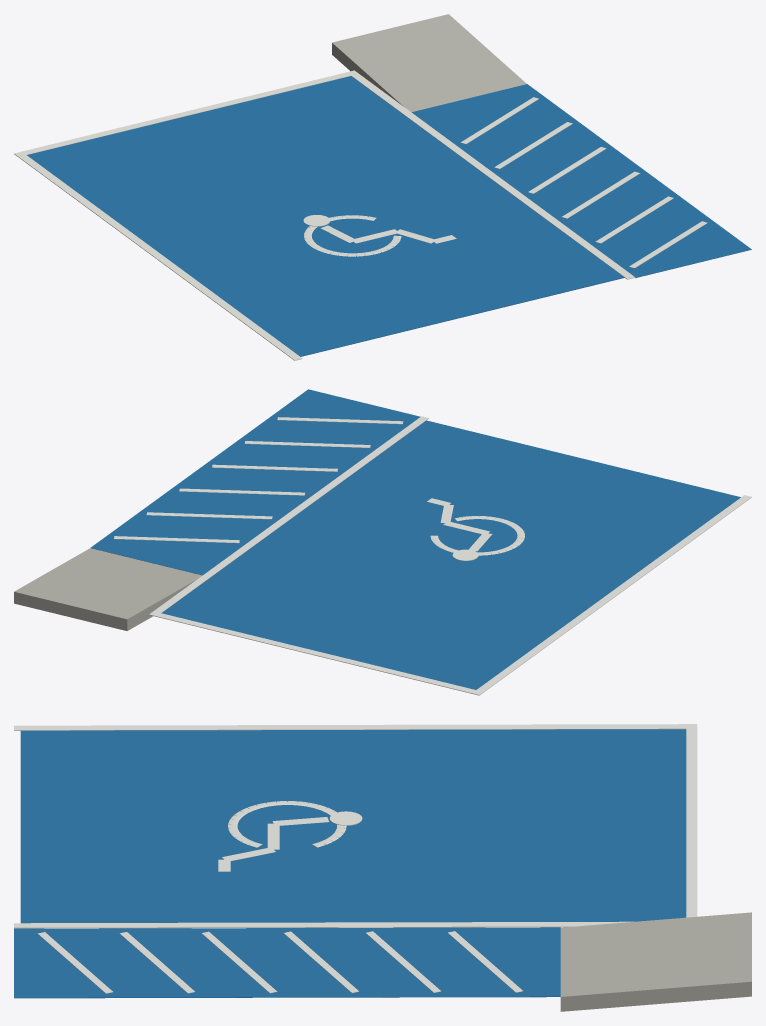
File: SIMUS_ParkingSpace_Accessible.fbx
3 renders of one model, top to bottom at view 1: azimuth 30°, elevation 25°; view 2: azimuth 150°, elevation 25°; view 3: azimuth 270°, elevation 25°, orthographic. The views are drawn at different scales.
Visible parts, largest first — view 1: Space_Colour_Accessible, Access_Transfer_Aisle, Access_Ramp, Space_Lines_Accessible, Access_Wheel; view 2: Space_Colour_Accessible, Access_Transfer_Aisle, Access_Ramp, Space_Lines_Accessible, Access_Wheel; view 3: Space_Colour_Accessible, Access_Transfer_Aisle, Access_Ramp, Space_Lines_Accessible, Access_Wheel, Access_Hatch_01, Access_Hatch_04, Access_Hatch_00, Access_Hatch_02, Access_Hatch_03, Access_Hatch_05.
Boxes of the visible parts, x1=… form: Space_Colour_Accessible: x1=27, y1=76, x2=624, y2=356; Access_Transfer_Aisle: x1=412, y1=84, x2=751, y2=278; Access_Ramp: x1=332, y1=14, x2=526, y2=112; Space_Lines_Accessible: x1=14, y1=70, x2=635, y2=360; Access_Wheel: x1=304, y1=215, x2=401, y2=256; Space_Colour_Accessible: x1=161, y1=420, x2=740, y2=689; Access_Transfer_Aisle: x1=90, y1=389, x2=420, y2=575; Access_Ramp: x1=14, y1=548, x2=202, y2=630; Space_Lines_Accessible: x1=149, y1=416, x2=751, y2=695; Access_Wheel: x1=430, y1=516, x2=524, y2=555; Space_Colour_Accessible: x1=20, y1=729, x2=686, y2=923; Access_Transfer_Aisle: x1=14, y1=927, x2=560, y2=998; Access_Ramp: x1=560, y1=912, x2=751, y2=1011; Space_Lines_Accessible: x1=14, y1=724, x2=697, y2=928; Access_Wheel: x1=228, y1=801, x2=346, y2=847; Access_Hatch_01: x1=119, y1=932, x2=194, y2=993; Access_Hatch_04: x1=366, y1=931, x2=441, y2=992; Access_Hatch_00: x1=37, y1=932, x2=112, y2=993; Access_Hatch_02: x1=201, y1=931, x2=277, y2=993; Access_Hatch_03: x1=283, y1=931, x2=358, y2=992; Access_Hatch_05: x1=448, y1=931, x2=522, y2=992.
Size of the model in its own units: 470 by 24.35 by 540.
